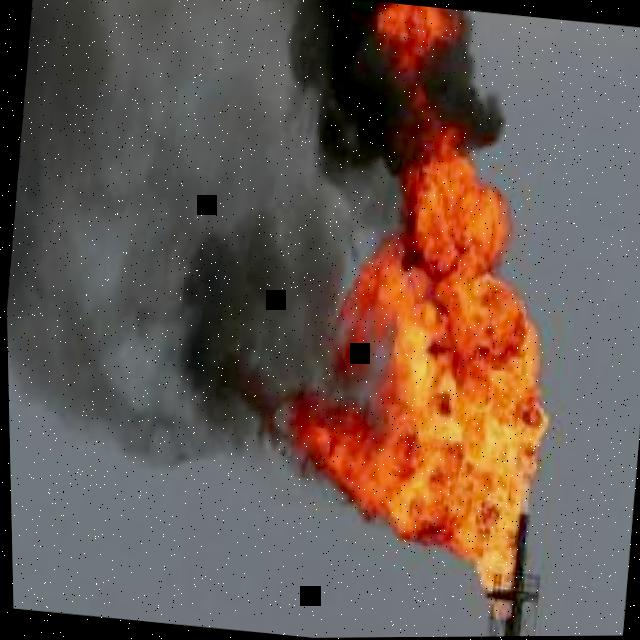fire: (285, 3, 549, 617)
smoke: (5, 0, 419, 479), (423, 11, 507, 151)
